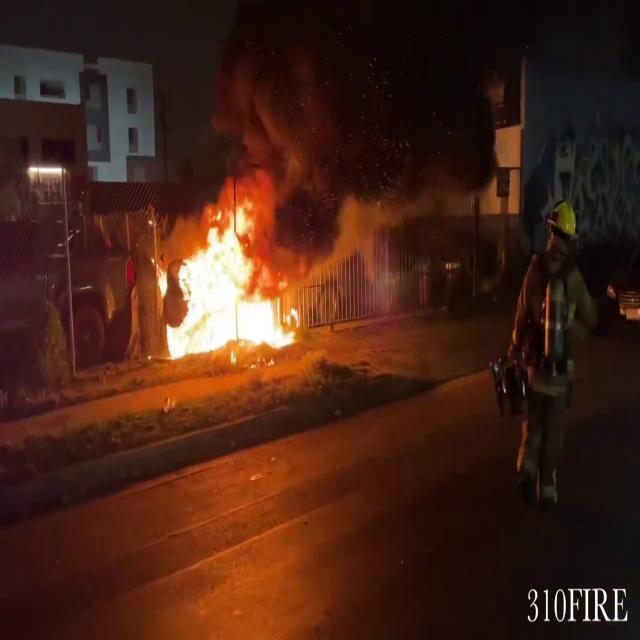Fire: (154, 192, 306, 366)
Smoke: (197, 0, 346, 190)
